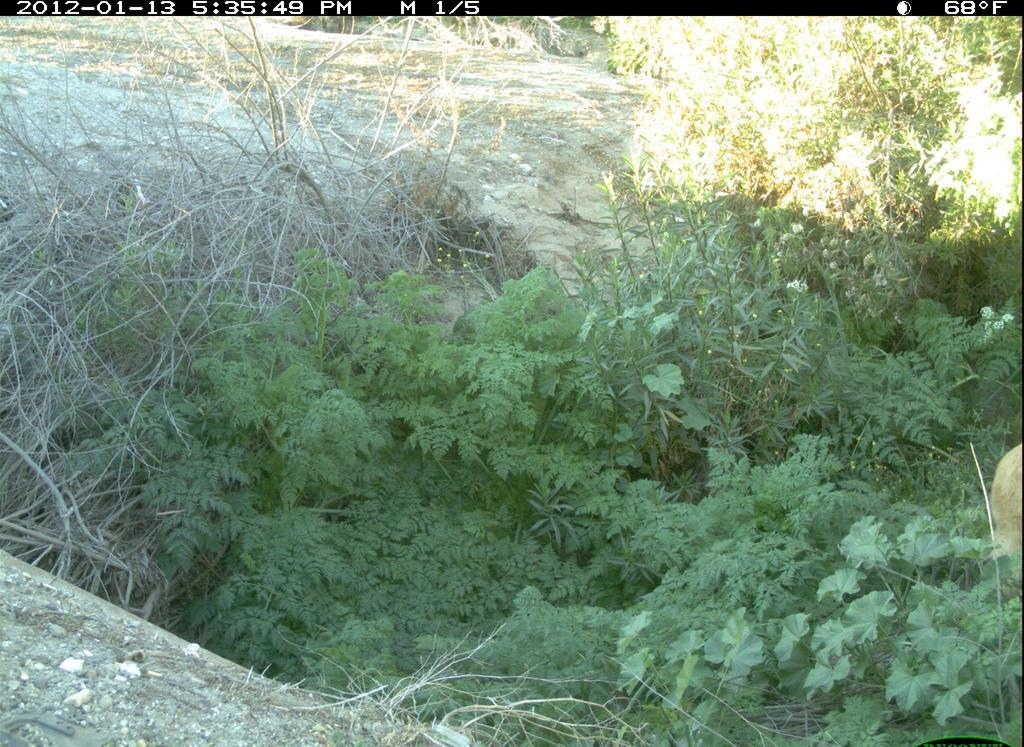dog: (977, 425, 1022, 569)
